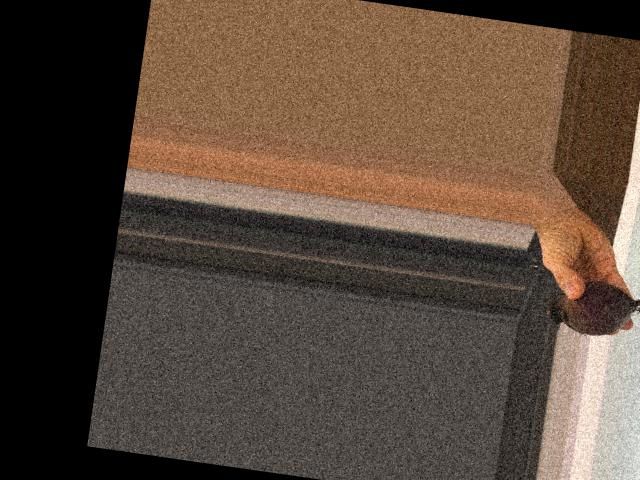beet: (539, 274, 640, 349)
